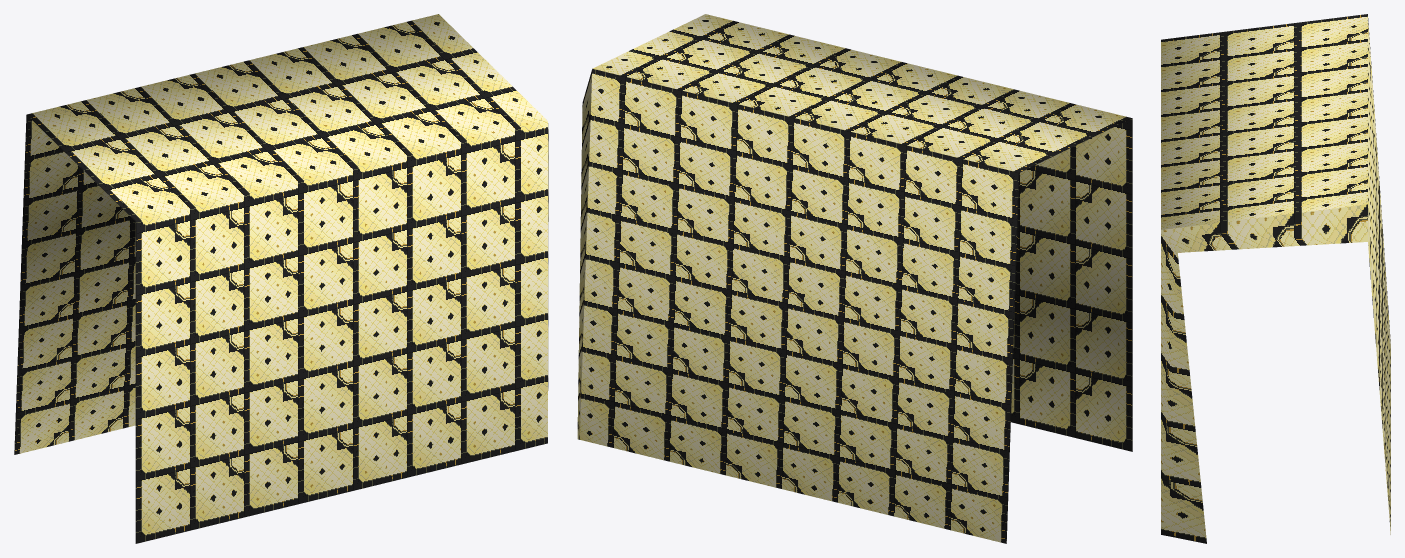
Rendered from 4651floor000_c.gltf.
The picture shows the model from 3 angles, left to right: view 1: azimuth 30°, elevation 25°; view 2: azimuth 150°, elevation 25°; view 3: azimuth 270°, elevation 25°; orthographic projection. The views are drawn at different scales.
Visible parts, largest first — view 1: 4651floor000_c; view 2: 4651floor000_c; view 3: 4651floor000_c.
Boxes of the visible parts, <box> form: 4651floor000_c: <box>14,14,548,543</box>; 4651floor000_c: <box>577,14,1132,543</box>; 4651floor000_c: <box>1161,14,1390,543</box>.
Bounding box in the file's own units: 2.05 × 1.59 × 1.
1 material, 1 textured.
